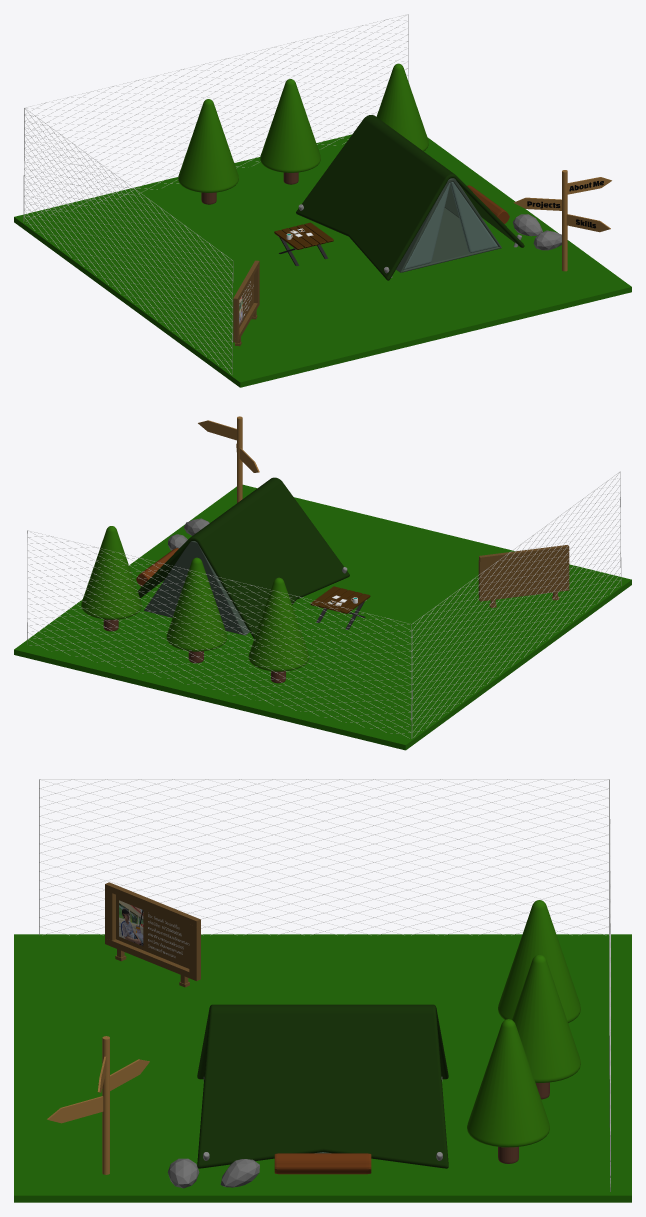
Rendered from 3Dportfolio7.glb.
The picture shows the model from 3 angles, top to bottom: view 1: azimuth 30°, elevation 25°; view 2: azimuth 150°, elevation 25°; view 3: azimuth 270°, elevation 25°; orthographic projection. The views are drawn at different scales.
Visible parts, largest first — view 1: Plane, Cube.001, Plane.002, Plane.001, Cylinder.008, Cylinder.006, Cube, Plane.006, Cylinder.004, Cube.003, Cube.002, Cylinder; view 2: Plane, Cube.001, Plane.002, Plane.001, Cube.003, Cylinder.008, Cylinder.006, Cylinder.004, Cube, Cube.002, Cylinder; view 3: Plane, Cube.001, Plane.001, Cylinder.004, Cube.003, Cylinder.006, Cylinder.008, Cylinder.002, Cylinder, portfolio_photo, Icosphere.001, Plane.005 (+3 smaller).
Boxes of the visible parts, x1=… form: Plane: x1=14, y1=134, x2=631, y2=387; Cube.001: x1=296, y1=115, x2=524, y2=280; Plane.002: x1=23, y1=14, x2=408, y2=221; Plane.001: x1=23, y1=108, x2=233, y2=374; Cylinder.008: x1=178, y1=99, x2=238, y2=192; Cylinder.006: x1=260, y1=79, x2=320, y2=172; Cube: x1=396, y1=178, x2=501, y2=272; Plane.006: x1=404, y1=182, x2=497, y2=269; Cylinder.004: x1=376, y1=63, x2=428, y2=151; Cube.003: x1=233, y1=260, x2=259, y2=346; Cube.002: x1=274, y1=222, x2=333, y2=249; Cylinder: x1=562, y1=170, x2=567, y2=271; Plane: x1=14, y1=484, x2=631, y2=750; Cube.001: x1=138, y1=477, x2=349, y2=638; Plane.002: x1=27, y1=530, x2=411, y2=738; Plane.001: x1=412, y1=471, x2=621, y2=738; Cube.003: x1=478, y1=545, x2=569, y2=607; Cylinder.008: x1=248, y1=577, x2=309, y2=671; Cylinder.006: x1=166, y1=557, x2=227, y2=651; Cylinder.004: x1=81, y1=526, x2=141, y2=619; Cube: x1=144, y1=541, x2=249, y2=635; Cube.002: x1=310, y1=586, x2=370, y2=613; Cylinder: x1=237, y1=416, x2=242, y2=502; Plane: x1=14, y1=934, x2=631, y2=1202; Cube.001: x1=197, y1=1004, x2=448, y2=1168; Plane.001: x1=39, y1=779, x2=609, y2=935; Cylinder.004: x1=467, y1=1019, x2=549, y2=1147; Cube.003: x1=105, y1=882, x2=200, y2=987; Cylinder.006: x1=512, y1=954, x2=580, y2=1082; Cylinder.008: x1=498, y1=900, x2=580, y2=1022; Cylinder.002: x1=274, y1=1153, x2=371, y2=1174; Cylinder: x1=102, y1=1036, x2=109, y2=1174; portfolio_photo: x1=119, y1=900, x2=143, y2=945; Icosphere.001: x1=220, y1=1159, x2=259, y2=1187; Plane.005: x1=47, y1=1096, x2=103, y2=1123.
Bounding box in the file's own units: 10.28 × 2.92 × 10.
Materials: 25 (5 with a texture image).
